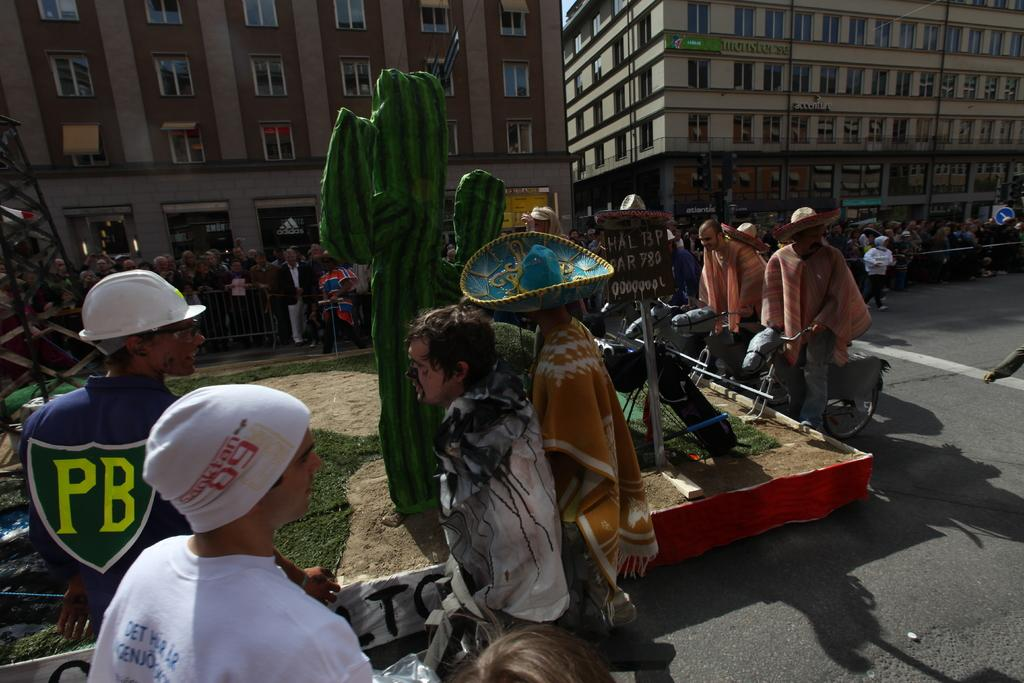Hat: (462, 231, 616, 314), (596, 192, 670, 236), (772, 207, 842, 246), (720, 223, 769, 252)
